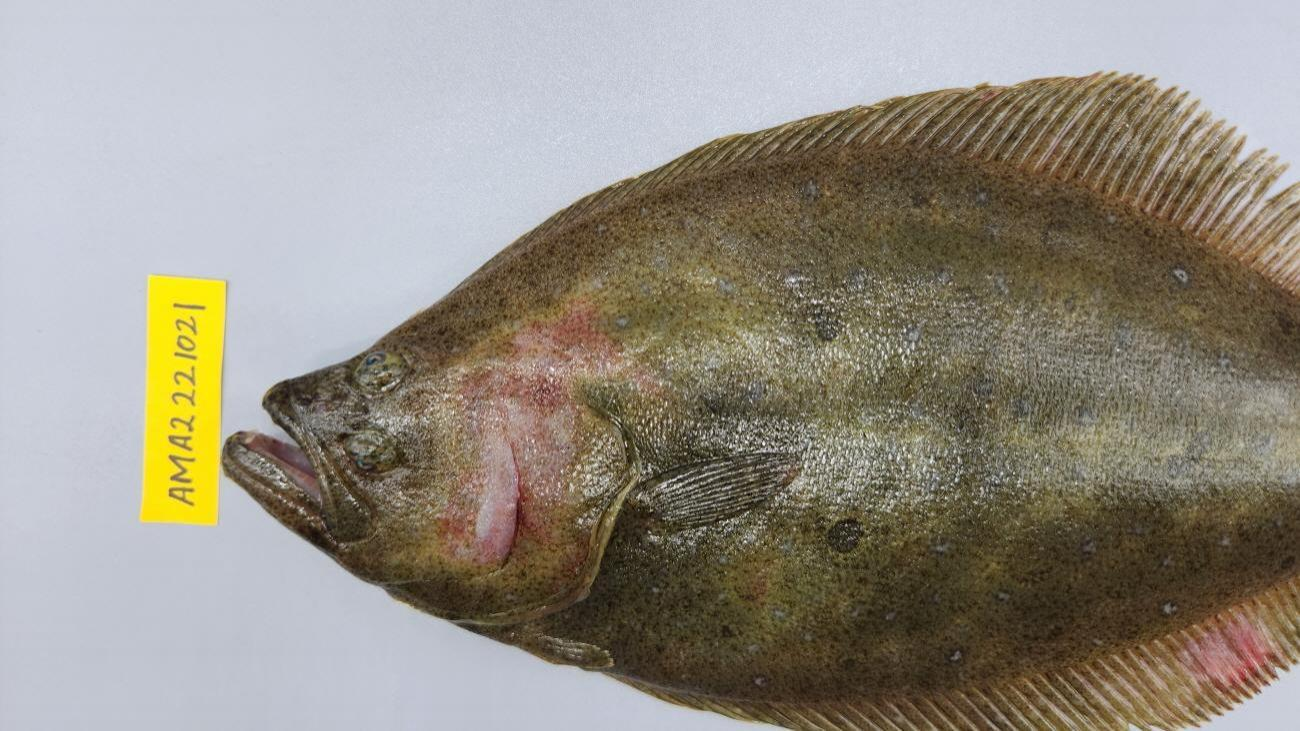MAFDH: (921, 71, 1297, 299)
